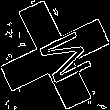M_SW: (22, 23, 88, 87)
